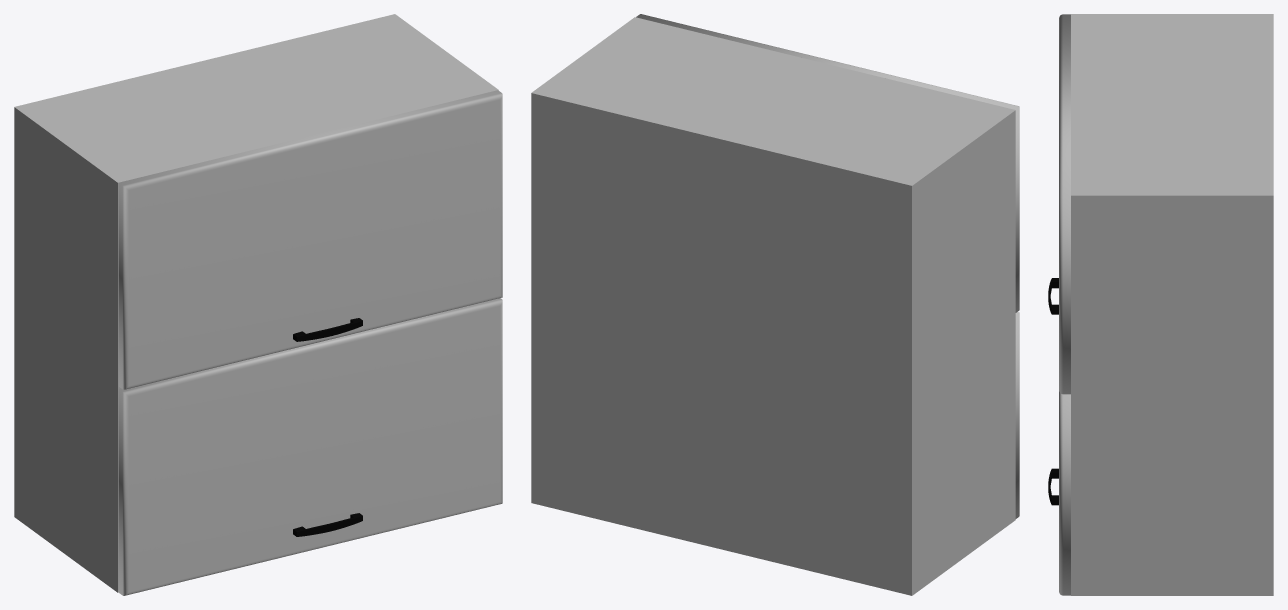
3 views of the same model, side by side, from view 1: azimuth 30°, elevation 25°; view 2: azimuth 150°, elevation 25°; view 3: azimuth 270°, elevation 25° (orthographic). The views are drawn at different scales.
Visible parts, largest first — view 1: Box001, Box011, Box029; view 2: Box001, Box011, Box029; view 3: Box001, Box011, Box029.
Boxes of the visible parts, x1=… form: Box001: x1=14, y1=14, x2=498, y2=592; Box011: x1=118, y1=90, x2=502, y2=389; Box029: x1=118, y1=298, x2=502, y2=595; Box001: x1=531, y1=17, x2=1015, y2=595; Box011: x1=636, y1=14, x2=1019, y2=312; Box029: x1=1015, y1=312, x2=1019, y2=518; Box001: x1=1071, y1=14, x2=1273, y2=595; Box011: x1=1059, y1=14, x2=1070, y2=394; Box029: x1=1059, y1=391, x2=1070, y2=595.
Bounding box in the file's own units: 0.7 × 0.72 × 0.3671.
Materials: 2 (1 with a texture image).
